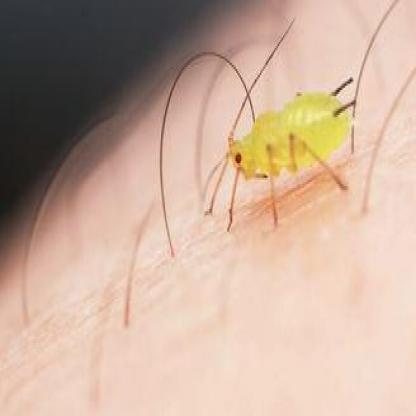aphid: (204, 60, 362, 223)
